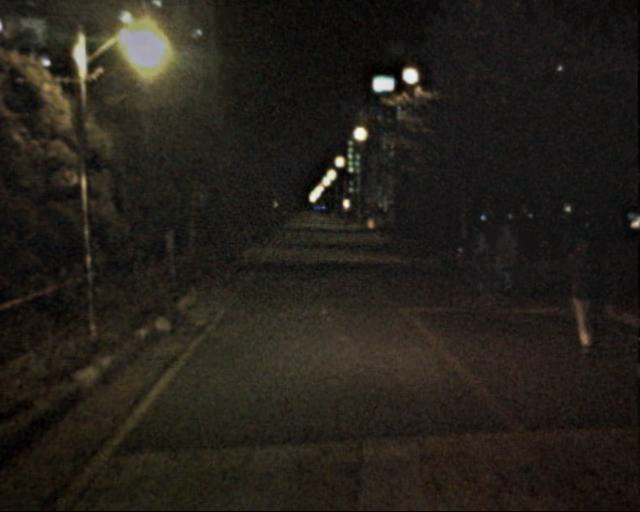person: (557, 230, 607, 352), (489, 223, 527, 307), (467, 228, 503, 303)
